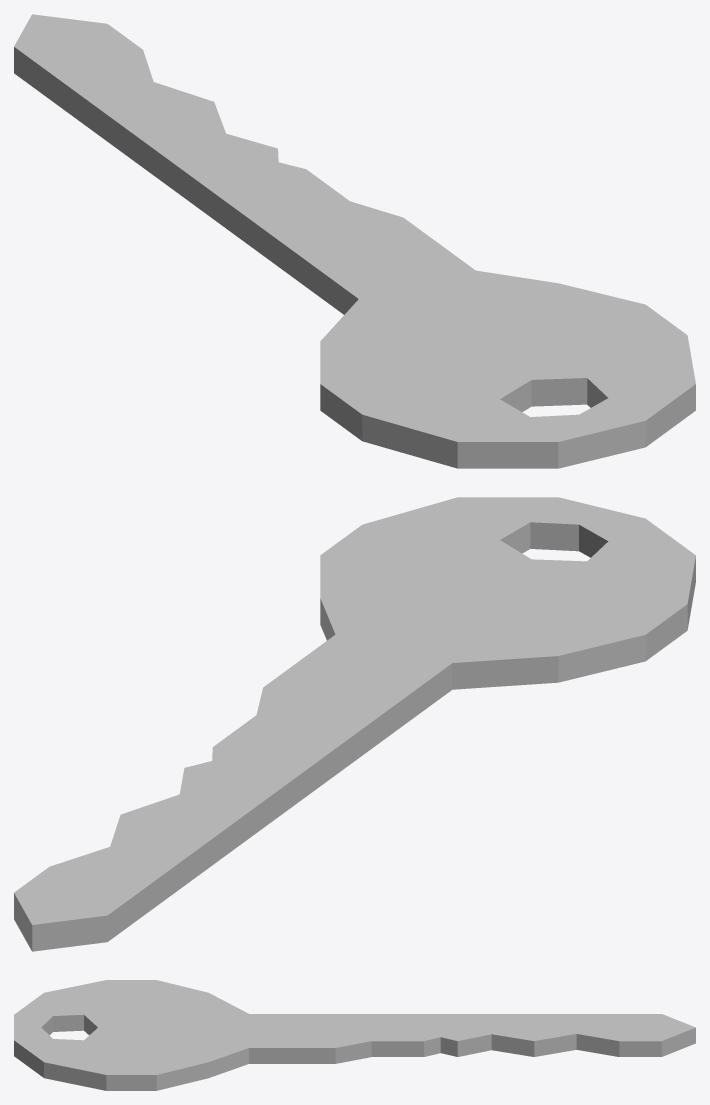
The model's file is Key_01.fbx.
3 views of the same model, one above another, from view 1: azimuth 30°, elevation 25°; view 2: azimuth 150°, elevation 25°; view 3: azimuth 270°, elevation 25° (orthographic). The views are drawn at different scales.
Parts seen in each view (by area): view 1: Key_01; view 2: Key_01; view 3: Key_01.
Part boxes in pixels (x1,y1,x2,y2): Key_01: (14,14,695,468); Key_01: (14,497,695,951); Key_01: (14,980,695,1090).
Size of the model in its own units: 14.09 by 1.1 by 42.73.
